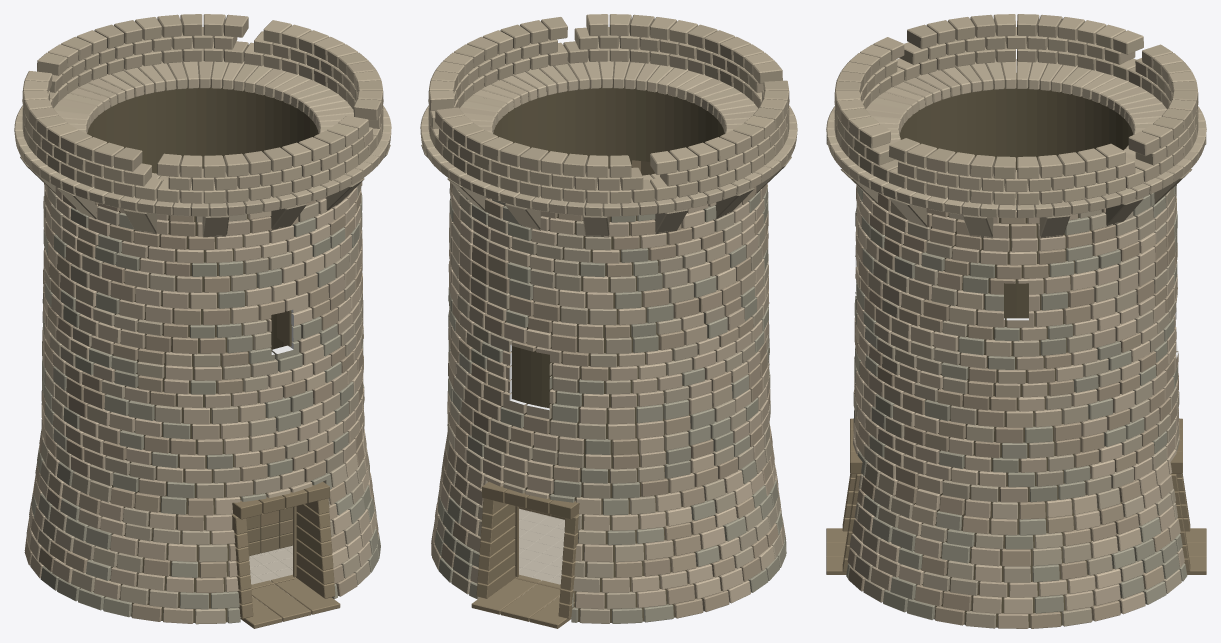
The model's file is Tour_V3_LOD0.fbx.
3 renders of one model, left to right at view 1: azimuth 30°, elevation 25°; view 2: azimuth 150°, elevation 25°; view 3: azimuth 270°, elevation 25°, orthographic.
Visible parts, largest first — view 1: V3_Fut_Granit_Exterieur, V3_Couronnement_Consoles, V3_Chaux_Coeur_Murs, V3_Embrasures_Linteaux_Seuils, V3_Retours_Pierres, V3_Dalles_Patine; view 2: V3_Fut_Granit_Exterieur, V3_Couronnement_Consoles, V3_Chaux_Coeur_Murs, V3_Embrasures_Linteaux_Seuils, V3_Dalles_Patine; view 3: V3_Fut_Granit_Exterieur, V3_Couronnement_Consoles, V3_Chaux_Coeur_Murs, V3_Embrasures_Linteaux_Seuils.
Boxes of the visible parts, left/top/right/bottom form: V3_Fut_Granit_Exterieur: left=24, top=182, right=380, bottom=624; V3_Couronnement_Consoles: left=14, top=14, right=391, bottom=237; V3_Chaux_Coeur_Murs: left=75, top=84, right=332, bottom=622; V3_Embrasures_Linteaux_Seuils: left=231, top=482, right=340, bottom=628; V3_Retours_Pierres: left=246, top=507, right=292, bottom=555; V3_Dalles_Patine: left=249, top=545, right=292, bottom=584; V3_Fut_Granit_Exterieur: left=431, top=182, right=786, bottom=623; V3_Couronnement_Consoles: left=420, top=14, right=797, bottom=237; V3_Chaux_Coeur_Murs: left=483, top=84, right=732, bottom=622; V3_Embrasures_Linteaux_Seuils: left=471, top=482, right=579, bottom=628; V3_Dalles_Patine: left=519, top=508, right=564, bottom=584; V3_Fut_Granit_Exterieur: left=846, top=184, right=1187, bottom=628; V3_Couronnement_Consoles: left=826, top=14, right=1206, bottom=238; V3_Chaux_Coeur_Murs: left=885, top=73, right=1144, bottom=627; V3_Embrasures_Linteaux_Seuils: left=826, top=418, right=1206, bottom=574.
Bounding box in the file's own units: 900 × 1210 × 900.
